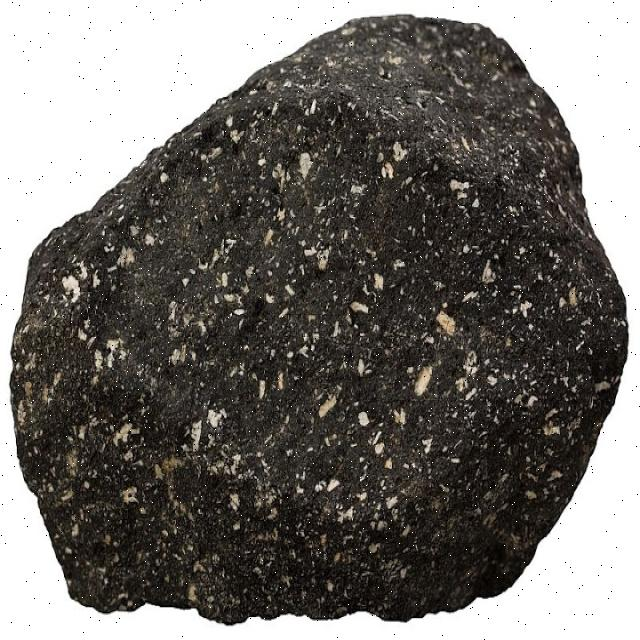Igneous: (6, 13, 626, 633)
